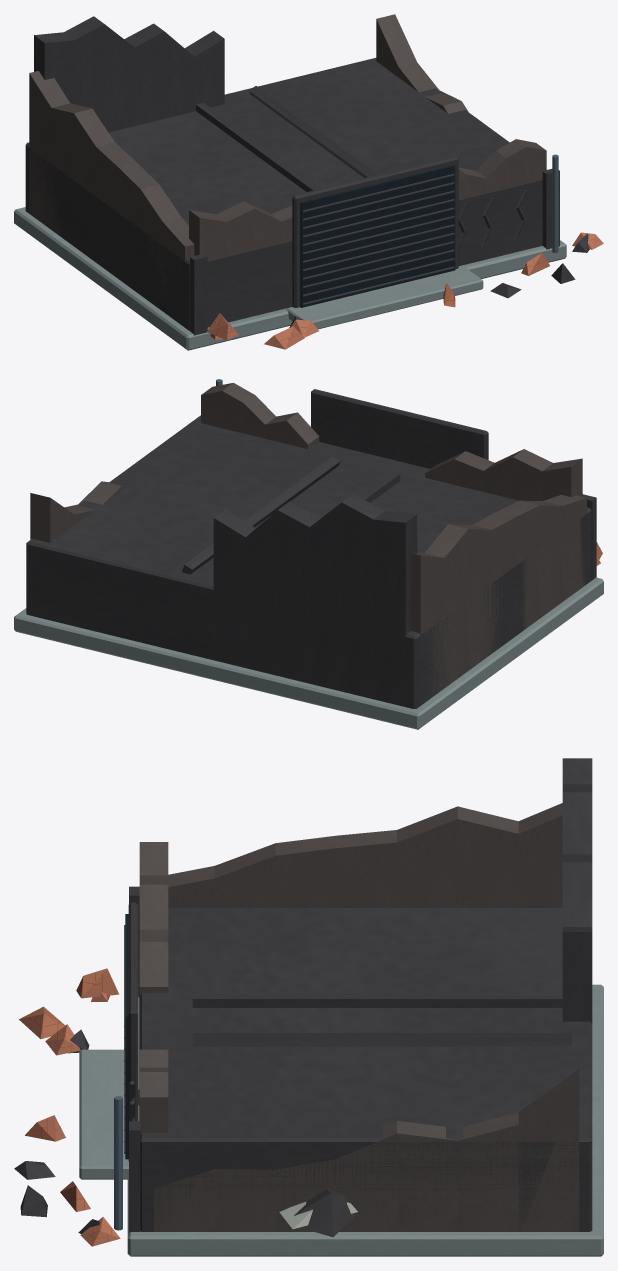
Rendered from warehouse-ruined.glb.
The picture shows the model from 3 angles, top to bottom: view 1: azimuth 30°, elevation 25°; view 2: azimuth 150°, elevation 25°; view 3: azimuth 270°, elevation 25°; orthographic projection. The views are drawn at different scales.
Visible parts, largest first — view 1: warehouse-ruined; view 2: warehouse-ruined; view 3: warehouse-ruined.
Boxes of the visible parts, x1,y1,x2,y2 form: warehouse-ruined: [14, 14, 603, 350]; warehouse-ruined: [14, 379, 603, 729]; warehouse-ruined: [14, 758, 603, 1256].
Size of the model in its own units: 7.73 by 3.52 by 7.16.
1 material, 1 textured.
